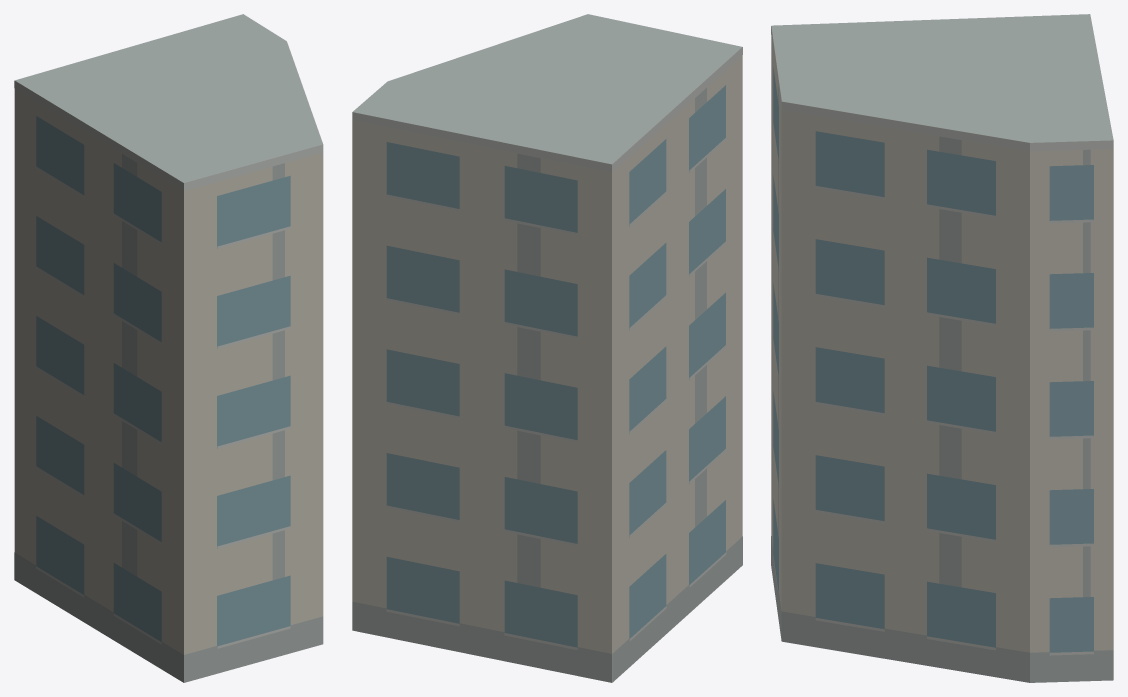
The model's file is survey-upis-32515089.glb.
3 views of the same model, side by side, from view 1: azimuth 30°, elevation 25°; view 2: azimuth 150°, elevation 25°; view 3: azimuth 270°, elevation 25° (orthographic). The views are drawn at different scales.
Parts seen in each view (by area): view 1: survey-upis-32515089.tmp; view 2: survey-upis-32515089.tmp; view 3: survey-upis-32515089.tmp.
Boxes of the visible parts, bbox=[...] form: survey-upis-32515089.tmp: bbox=[14, 14, 323, 682]; survey-upis-32515089.tmp: bbox=[352, 14, 742, 682]; survey-upis-32515089.tmp: bbox=[771, 14, 1113, 682].
Bounding box in the file's own units: 7.82 × 15.25 × 8.78.
